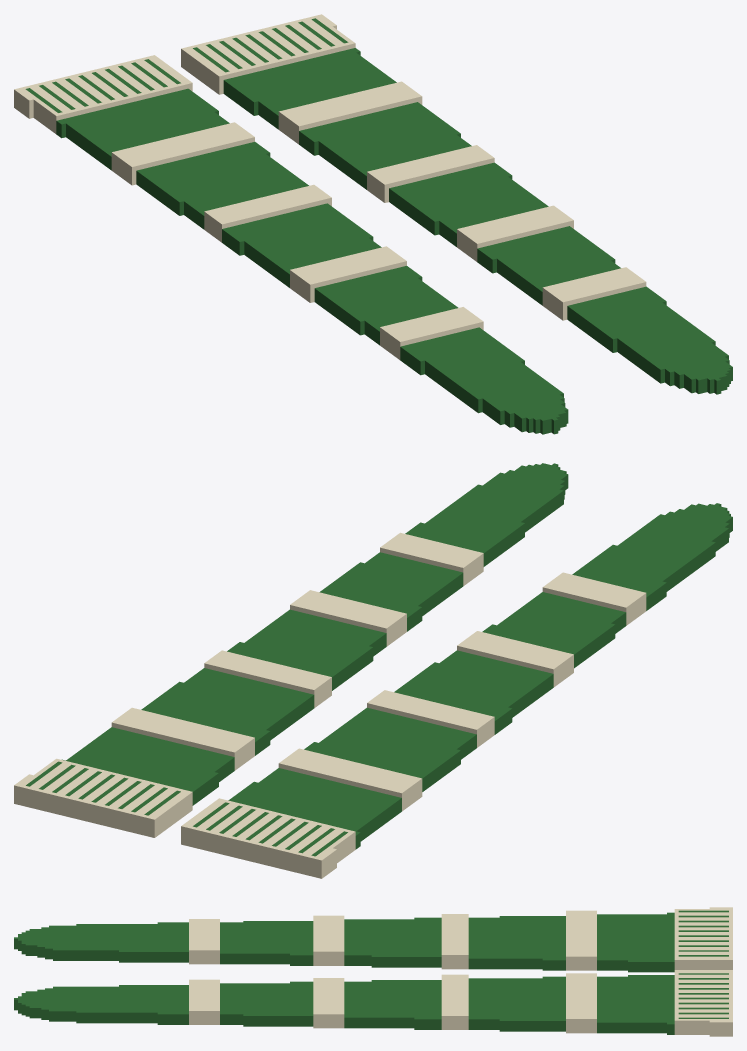
Rendered from stockings_tent_arms.glb.
3 views of the same model, one above another, from view 1: azimuth 30°, elevation 25°; view 2: azimuth 150°, elevation 25°; view 3: azimuth 270°, elevation 25° (orthographic). The views are drawn at different scales.
Visible parts, largest first — view 1: stockings_tent_arms:compound; view 2: stockings_tent_arms:compound; view 3: stockings_tent_arms:compound.
Part boxes in pixels (x1,y1,x2,y2): stockings_tent_arms:compound: (14,14,732,434); stockings_tent_arms:compound: (14,463,732,878); stockings_tent_arms:compound: (14,907,732,1036).
Bounding box in the file's own units: 0.28 × 0.016 × 0.74.
